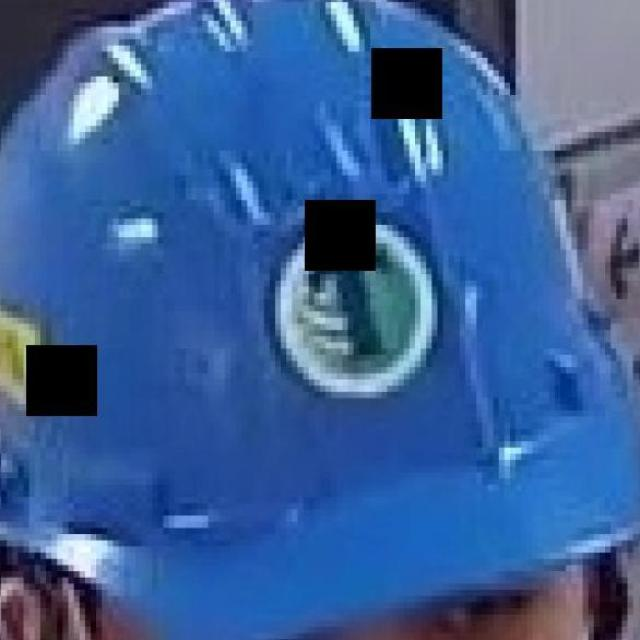blue helmet: (9, 11, 640, 567)
